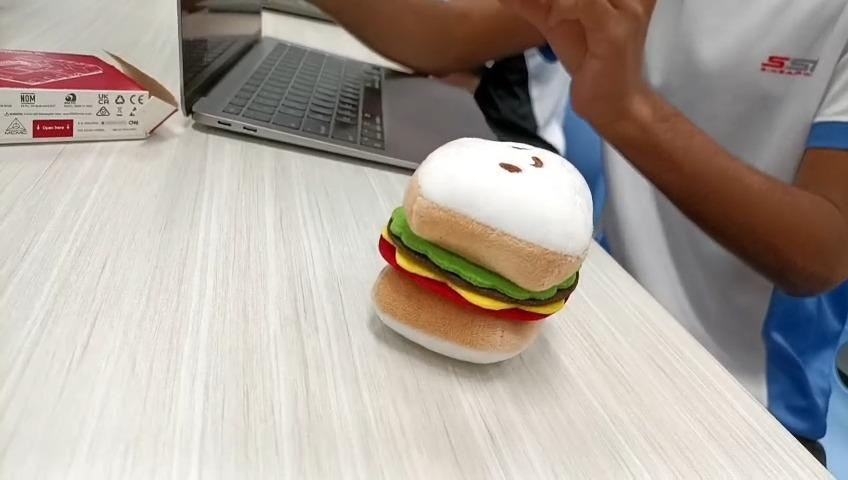objects: (372, 135, 594, 366)
